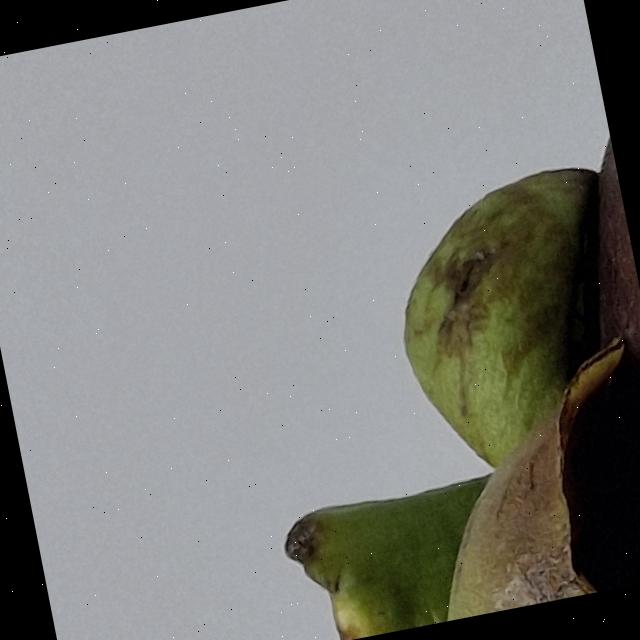mangosteen: (156, 0, 640, 640)
